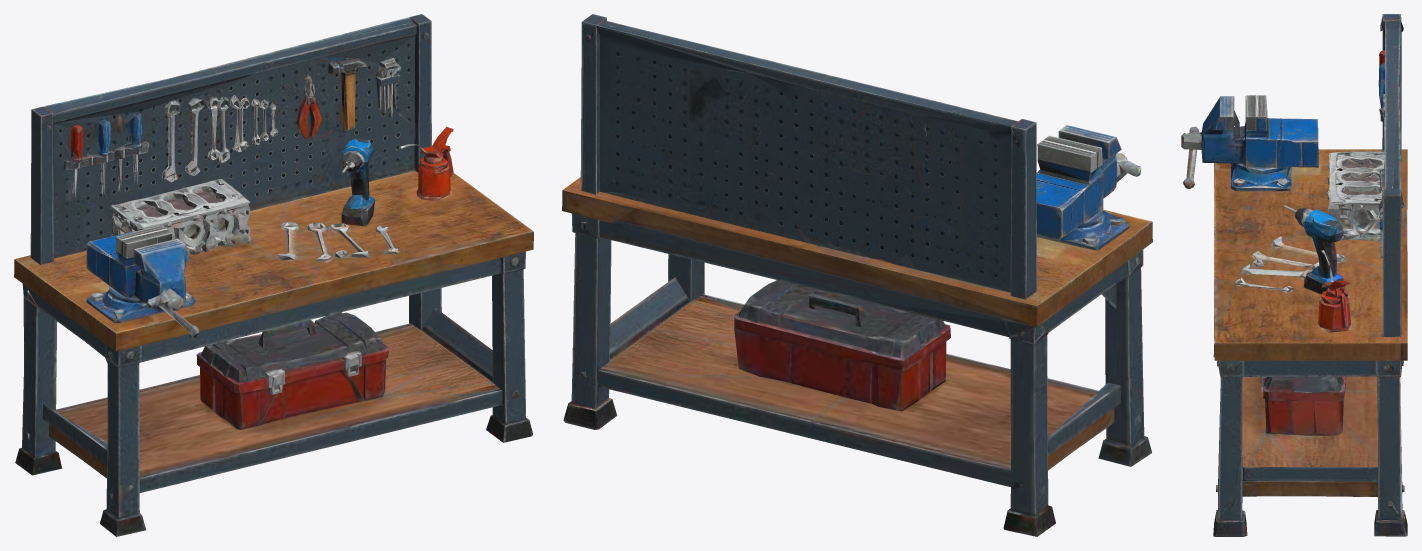
Rendered from bench.glb.
3 views of the same model, side by side, from view 1: azimuth 30°, elevation 25°; view 2: azimuth 150°, elevation 25°; view 3: azimuth 270°, elevation 25° (orthographic). The views are drawn at different scales.
Bounding box in the file's own units: 1.9 × 1.53 × 0.9361.
1 material, 1 textured.
